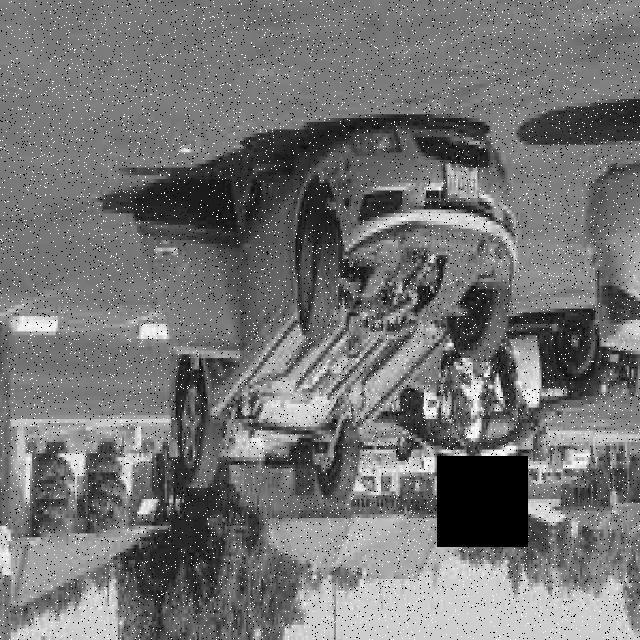severe: (135, 124, 524, 505)
